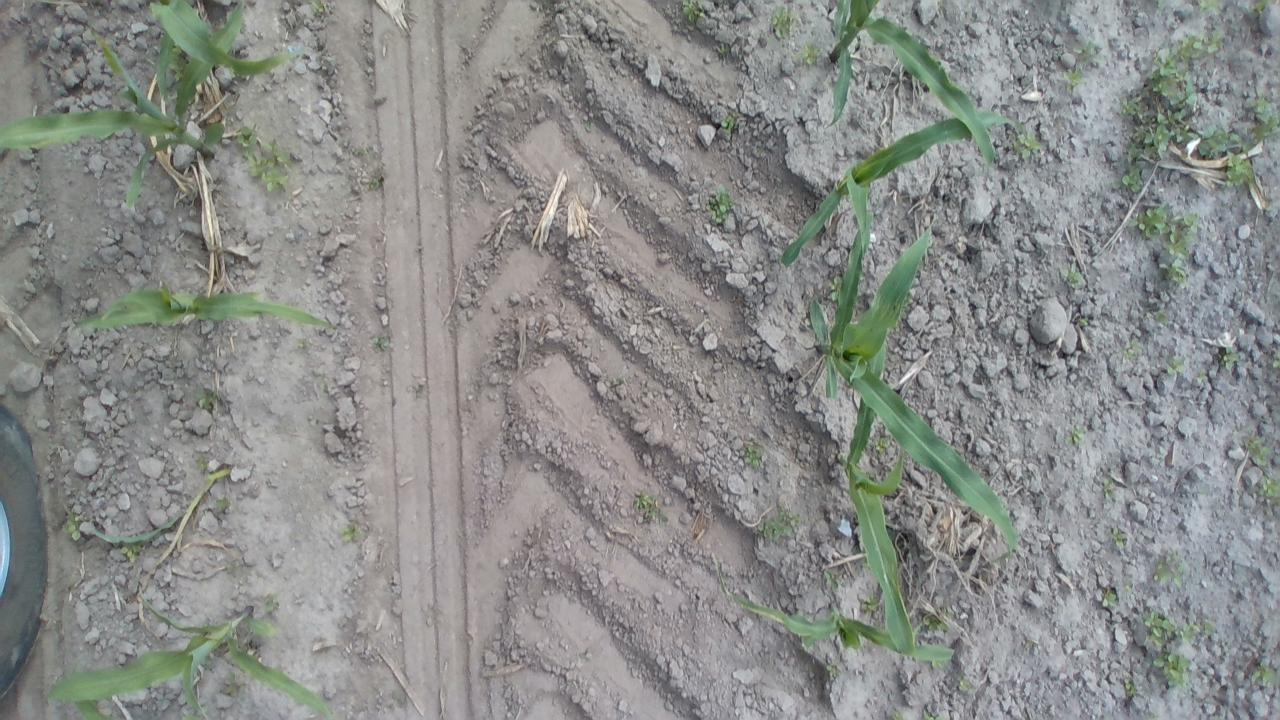Maize: (810, 154, 1024, 566), (0, 0, 261, 207), (778, 109, 1017, 271), (41, 592, 338, 720), (812, 0, 999, 174), (844, 322, 921, 666), (727, 579, 956, 676), (65, 275, 332, 352), (145, 0, 294, 82)
Weeds: (1120, 56, 1198, 162), (1136, 612, 1195, 687), (231, 119, 290, 193), (1136, 210, 1198, 254), (1172, 24, 1226, 63), (348, 142, 384, 196), (760, 499, 804, 542), (1151, 546, 1192, 588), (1242, 98, 1279, 140), (1192, 122, 1232, 160), (702, 182, 738, 224), (631, 488, 668, 528), (1150, 251, 1191, 286), (1070, 34, 1106, 71), (1179, 617, 1220, 646), (194, 382, 230, 415), (1004, 127, 1038, 161), (1058, 257, 1086, 298), (1222, 150, 1252, 184), (1245, 436, 1275, 468), (1112, 166, 1144, 196), (766, 4, 796, 36), (1060, 423, 1092, 452), (60, 512, 88, 542), (1248, 660, 1278, 688), (1120, 678, 1146, 710), (407, 372, 432, 404), (738, 440, 766, 468), (708, 111, 742, 133), (1160, 353, 1184, 382), (1220, 342, 1242, 373), (676, 2, 707, 23), (259, 593, 284, 619), (828, 272, 851, 300), (338, 519, 366, 542), (1060, 66, 1088, 88), (819, 564, 841, 592), (1107, 526, 1135, 548), (1258, 474, 1280, 501), (1122, 336, 1144, 362), (370, 330, 392, 356), (1066, 308, 1094, 328), (799, 44, 828, 63), (1096, 474, 1116, 501), (854, 594, 878, 616), (952, 670, 974, 694), (116, 541, 140, 562), (1197, 368, 1219, 390), (1265, 342, 1280, 374), (820, 660, 840, 684), (1097, 584, 1115, 609), (296, 331, 316, 352), (1194, 0, 1221, 15), (1248, 0, 1276, 14), (883, 705, 907, 720), (193, 455, 214, 472), (215, 498, 233, 516), (919, 708, 945, 720), (310, 0, 326, 19), (1148, 311, 1168, 325)
